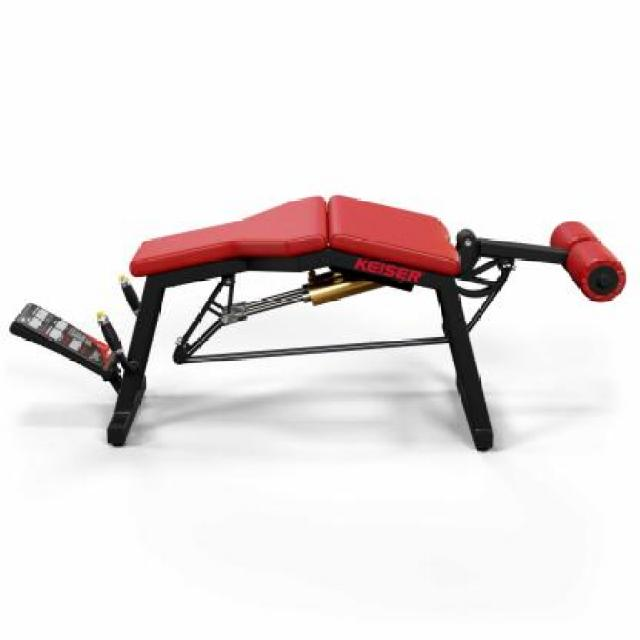reg curl machine: (9, 195, 628, 454)
